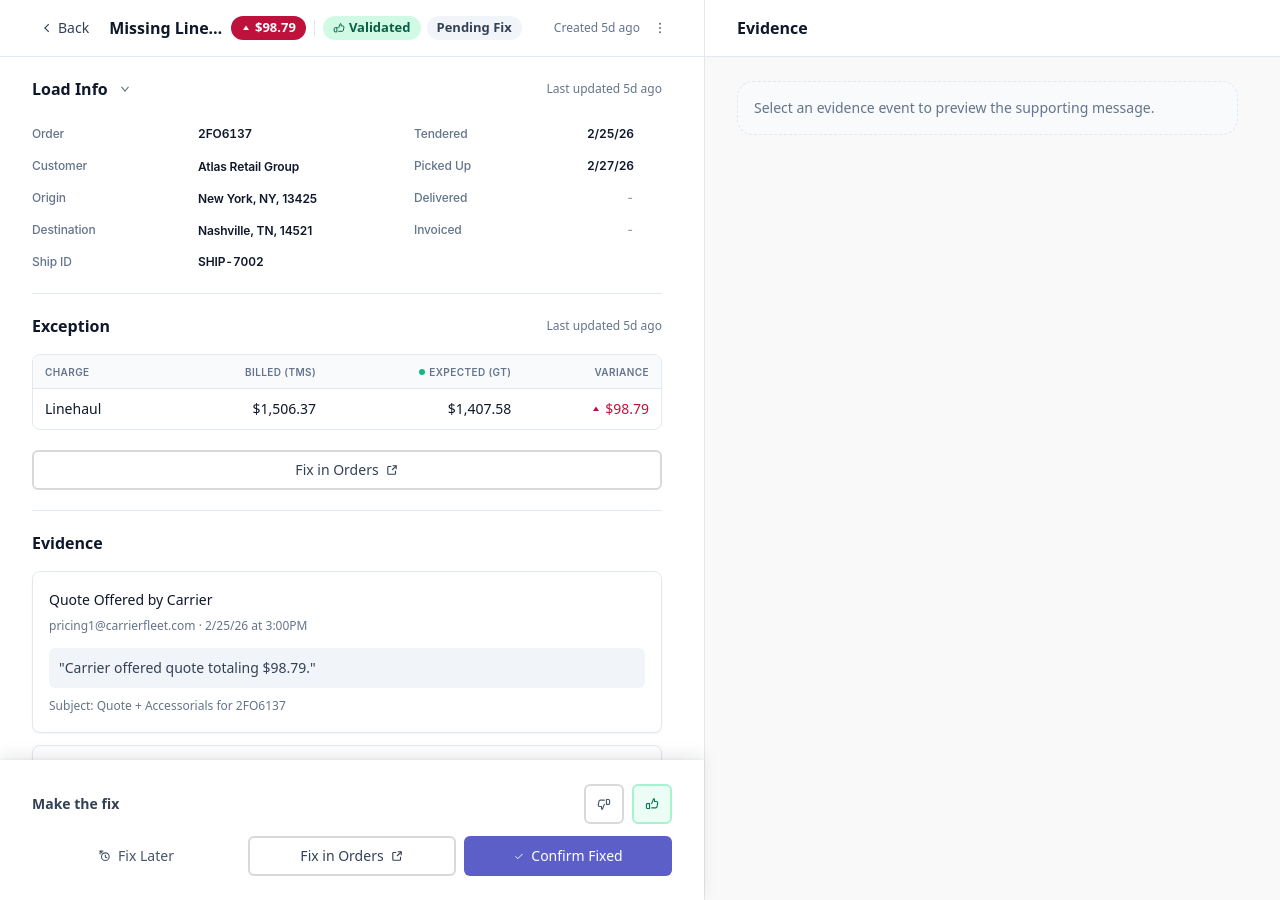
Test: DetailPage › updates the right supporting-message pane when evidence is selected
The width and height of the screenshot is (1280, 900).
Click the button with test id "evidence-card-": (347, 652) x1=32 y1=571 x2=662 y2=733
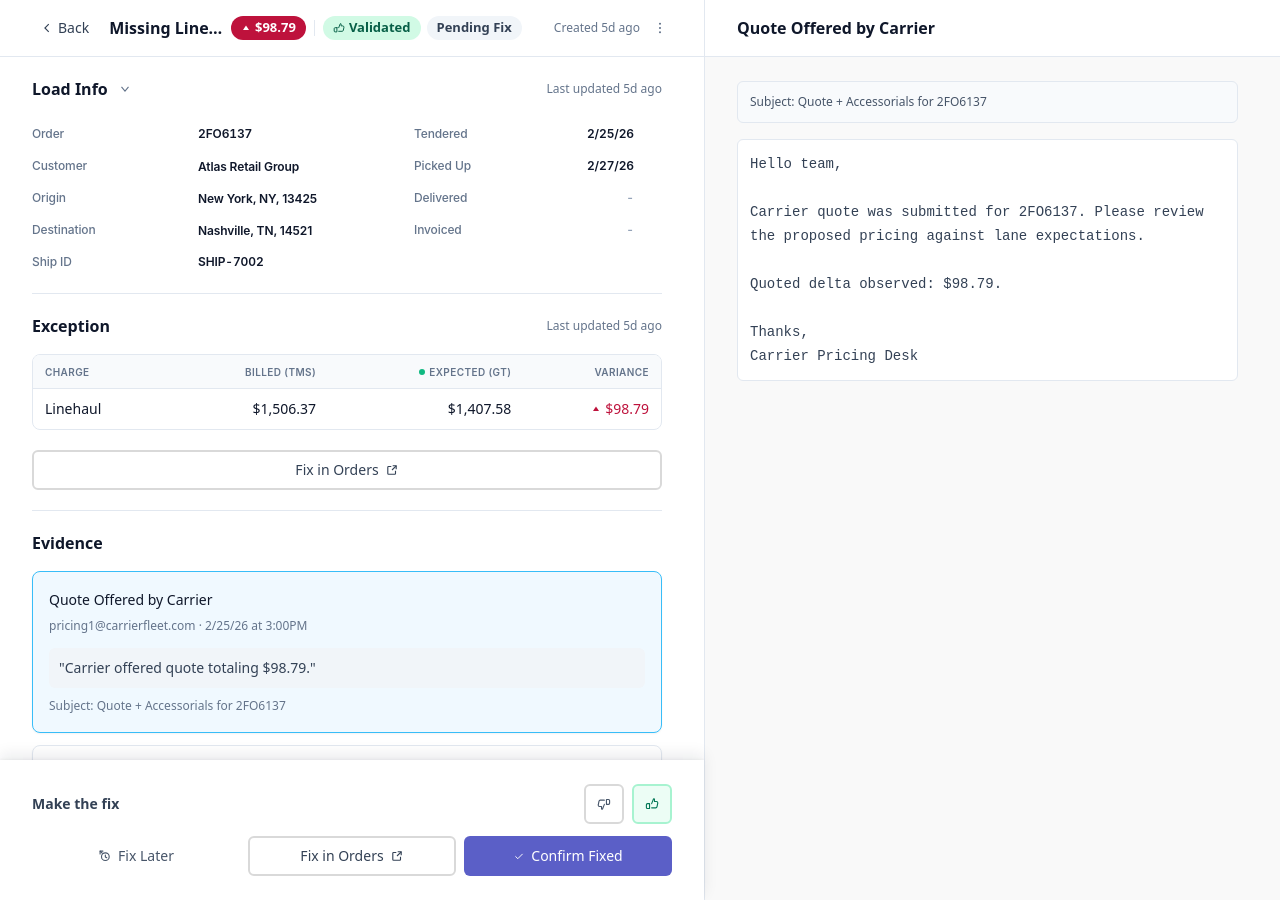
Expected: the heading with test id "supporting-message-header" reads "Quote Offered by Carrier", x1=737 y1=17 x2=935 y2=39
Expected: the text "Carrier quote was submitted" is shown, x1=750 y1=156 x2=1212 y2=364
Expected: the element with test id "supporting-message-content" is shown, x1=737 y1=81 x2=1238 y2=381
